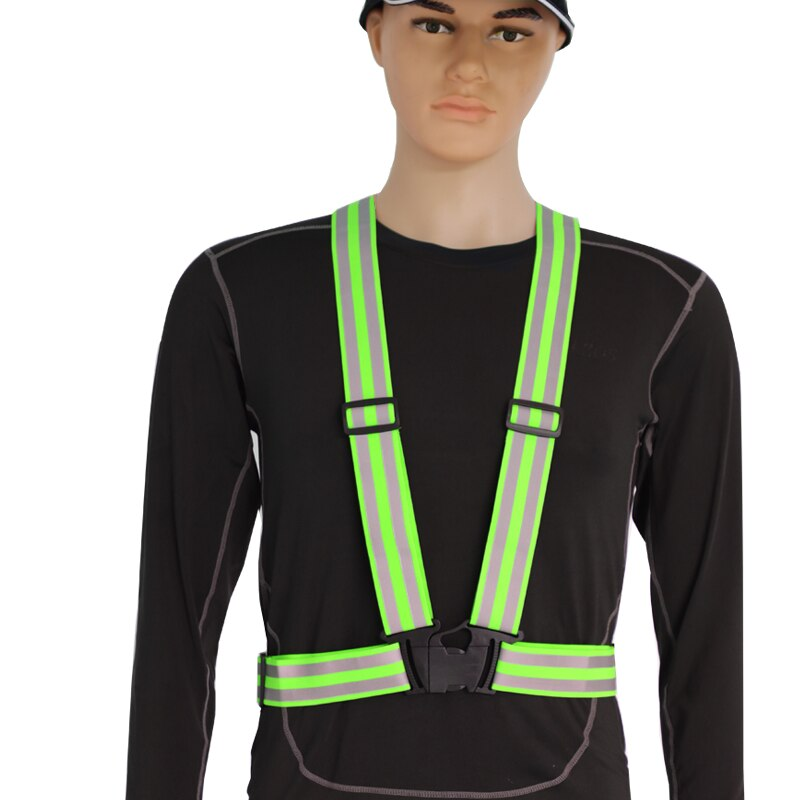Reflective vest: (252, 197, 623, 716)
